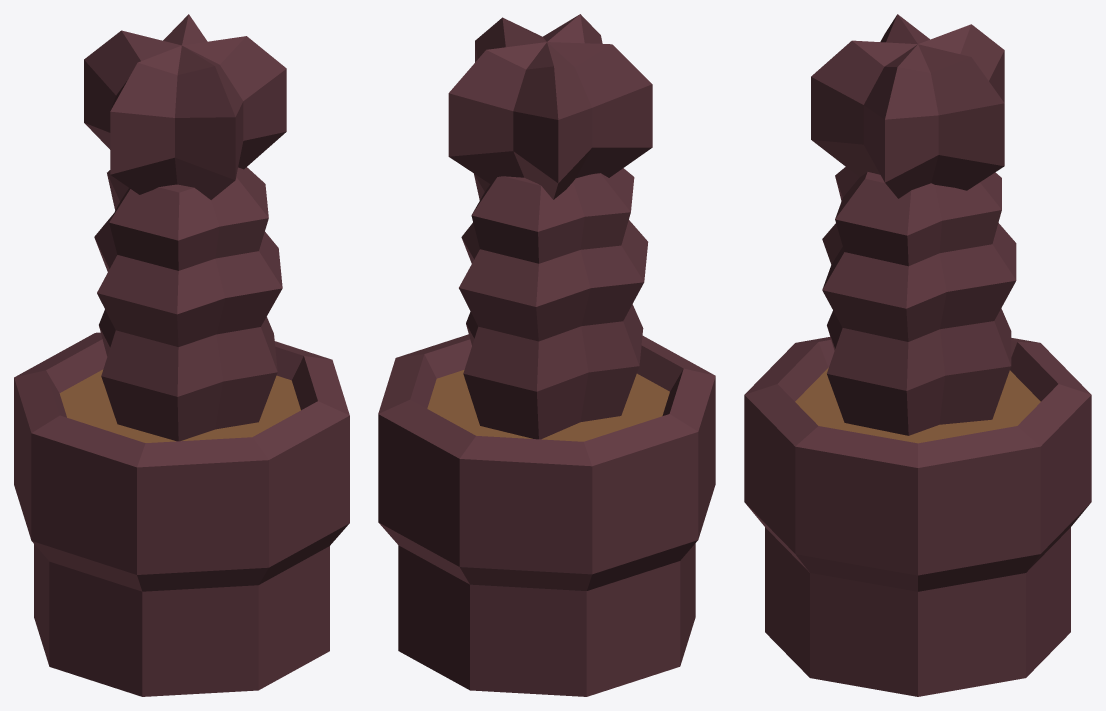
The model's file is pot-small-circle-cactus-b.fbx.
The picture shows the model from 3 angles, left to right: view 1: azimuth 30°, elevation 25°; view 2: azimuth 150°, elevation 25°; view 3: azimuth 270°, elevation 25°; orthographic projection.
Visible parts, largest first — view 1: pot-small-circle-cactus-b; view 2: pot-small-circle-cactus-b; view 3: pot-small-circle-cactus-b.
Boxes of the visible parts, x1,y1,x2,y2 form: pot-small-circle-cactus-b: (14,14,349,696); pot-small-circle-cactus-b: (378,14,715,696); pot-small-circle-cactus-b: (744,14,1091,696).
Bounding box in the file's own units: 0.1456 × 0.2739 × 0.1456.
